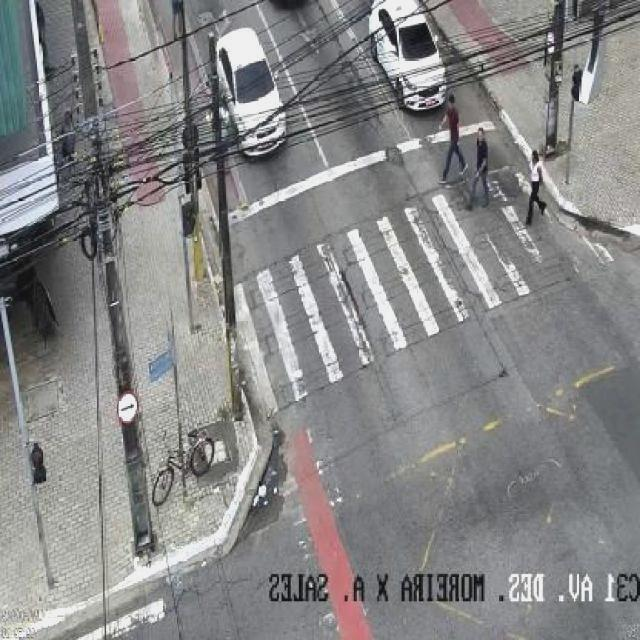Car: (212, 26, 302, 160), (372, 0, 453, 115)
Cycle: (146, 425, 216, 505)
